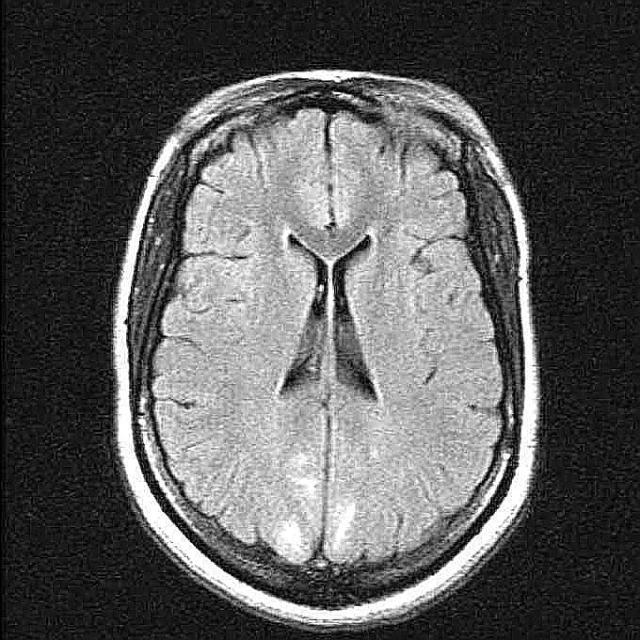notumor: (114, 72, 540, 634)
